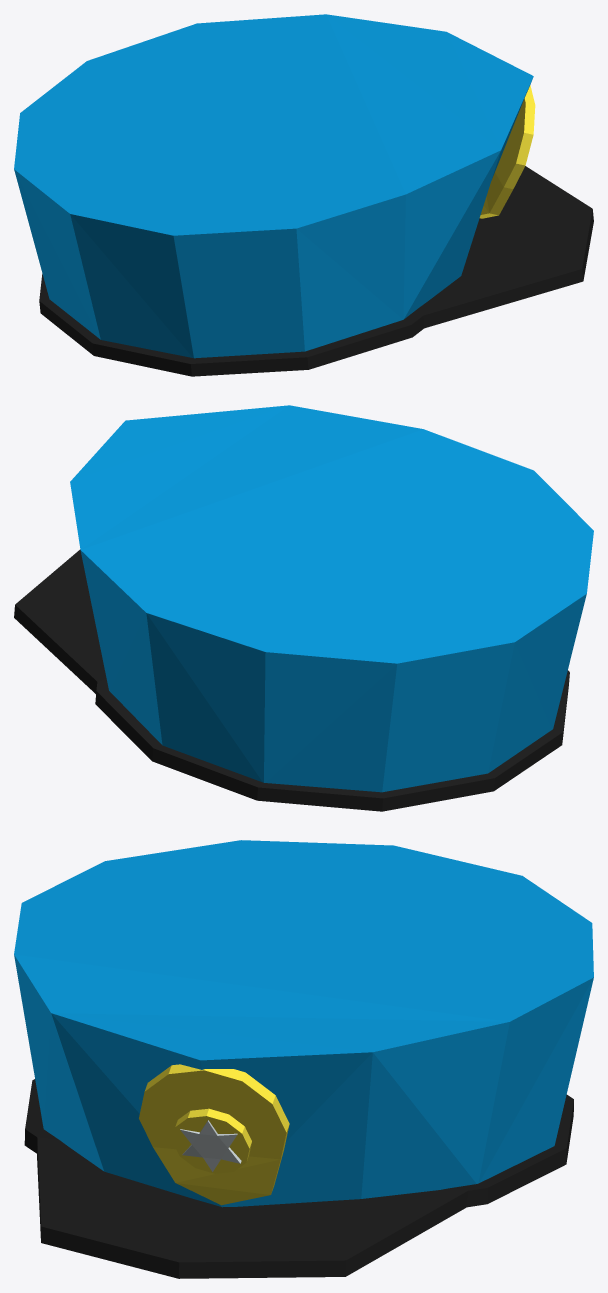
File: security-hat.glb
The picture shows the model from 3 angles, top to bottom: view 1: azimuth 30°, elevation 25°; view 2: azimuth 150°, elevation 25°; view 3: azimuth 270°, elevation 25°; orthographic projection. The views are drawn at different scales.
Visible parts, largest first — view 1: group1107993867, group1154422259, group1886624364; view 2: group1107993867, group1154422259; view 3: group1107993867, group1154422259, group1886624364.
Boxes of the visible parts, box(x1,y1,x2,y2) form: group1107993867: box(14, 14, 533, 358); group1154422259: box(39, 166, 593, 376); group1886624364: box(479, 85, 535, 218); group1107993867: box(70, 405, 593, 792); group1154422259: box(14, 549, 569, 811); group1107993867: box(14, 840, 593, 1207); group1154422259: box(24, 1079, 573, 1278); group1886624364: box(139, 1064, 289, 1205).
Size of the model in its own units: 0.5717 by 0.2077 by 0.4647.
